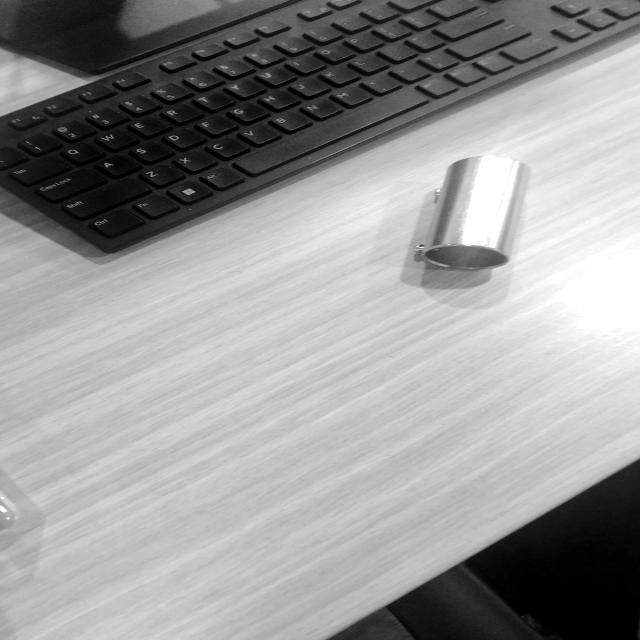Co_Lon: (413, 141, 534, 284)
